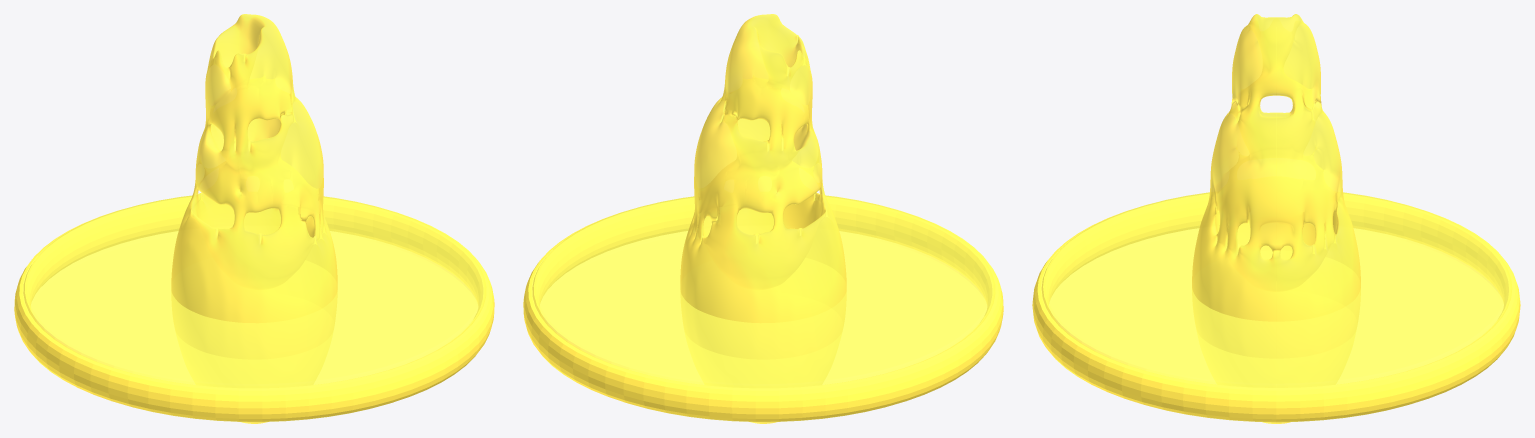
File: BonusFartcoin.glb
3 renders of one model, left to right at view 1: azimuth 30°, elevation 25°; view 2: azimuth 150°, elevation 25°; view 3: azimuth 270°, elevation 25°, orthographic.
Visible parts, largest first — view 1: BonusFartcoin, PoopEmoji, CoinRim; view 2: BonusFartcoin, PoopEmoji, CoinRim; view 3: BonusFartcoin, PoopEmoji, CoinRim.
Boxes of the visible parts, bbox=[...] form: BonusFartcoin: bbox=[23, 195, 485, 421]; PoopEmoji: bbox=[171, 14, 337, 423]; CoinRim: bbox=[14, 197, 494, 421]; BonusFartcoin: bbox=[532, 195, 994, 421]; PoopEmoji: bbox=[680, 14, 846, 423]; CoinRim: bbox=[523, 196, 1003, 421]; BonusFartcoin: bbox=[1041, 192, 1511, 422]; PoopEmoji: bbox=[1192, 14, 1360, 423]; CoinRim: bbox=[1032, 193, 1520, 421].
Bounding box in the file's own units: 2.07 × 1.9 × 2.07.
